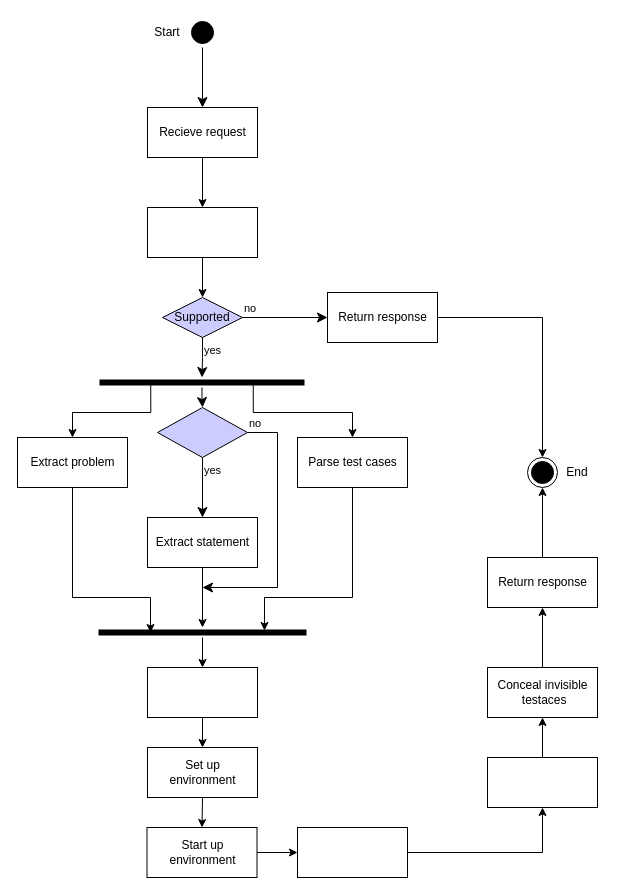
Some shapes in this 625 by 895 pixel diagram are drawn without their labels. Here are the shapes that lost their labels. From the top down, the centre of each, then its label:
[202,232]: Parse request
[202,432]: Statement cached
[202,692]: Include additional testcases
[542,782]: Calculate statistics
[352,852]: Receive resulre
